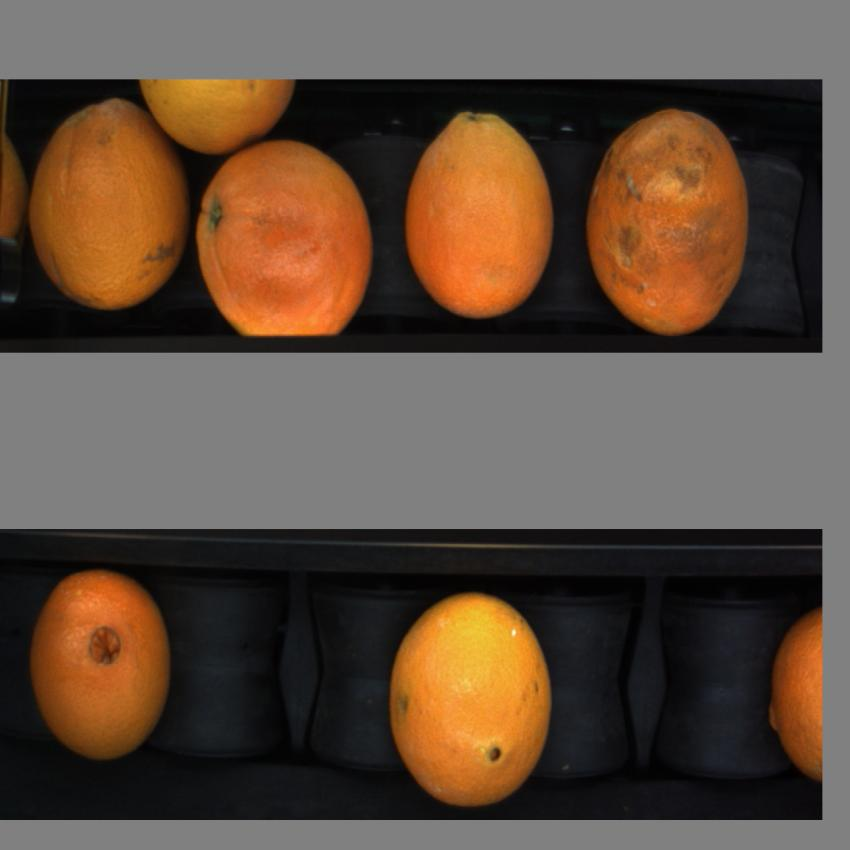Buen estado: (192, 131, 378, 358), (388, 582, 556, 822), (25, 92, 193, 322), (398, 102, 562, 320), (28, 558, 180, 781), (137, 74, 304, 162), (768, 598, 823, 798)
Mal estado: (581, 98, 755, 344)
